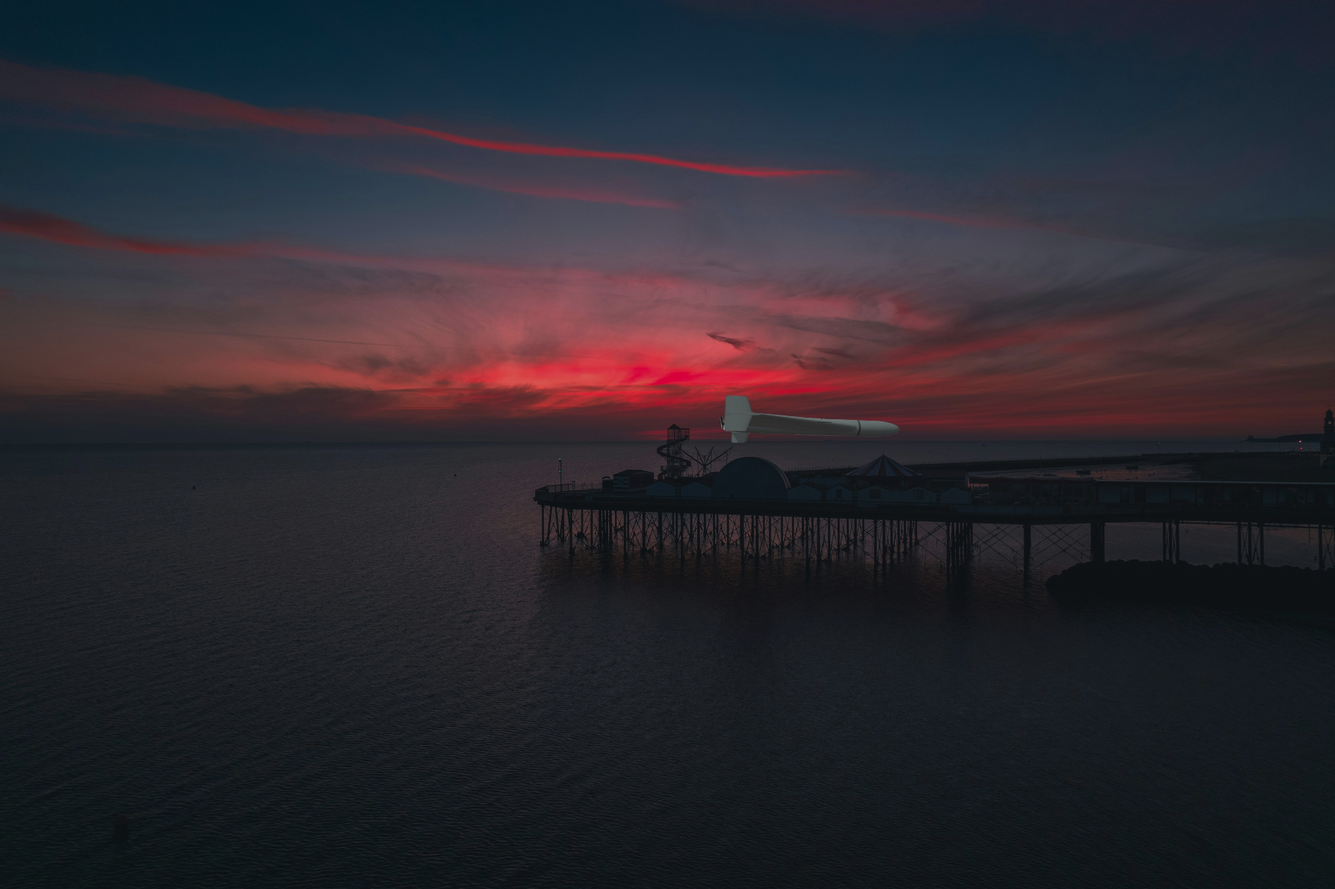shahed: (711, 387, 907, 449)
